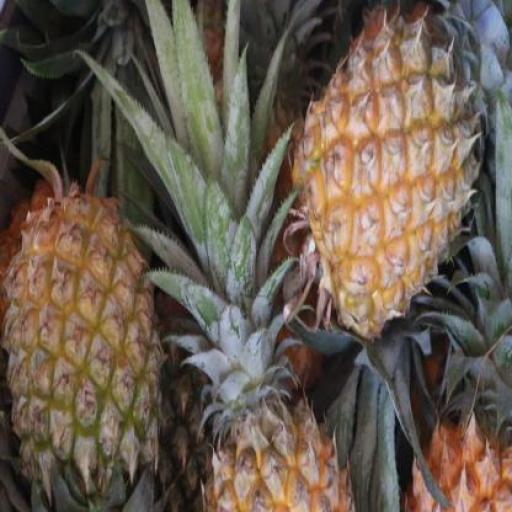------------------------------: (5, 192, 165, 492)
Pineapple - v8 v1: (286, 17, 499, 337), (186, 389, 362, 512)
